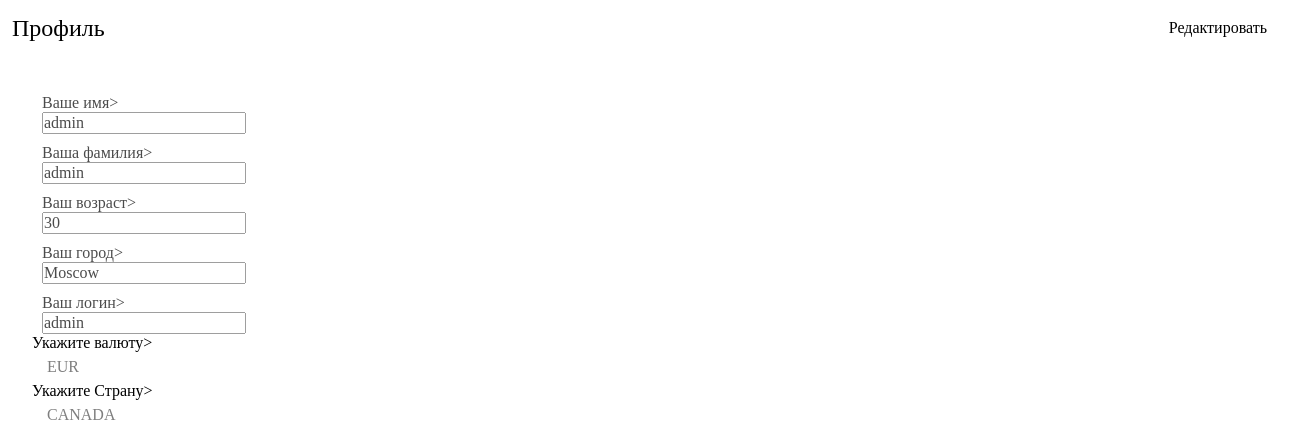
Scenario: features/EditableProfileCard › Отмена изменений
Click the button with test id "ProfilePageHeader.editBtn": {"x": 1218, "y": 28} [1154, 12, 1282, 44]
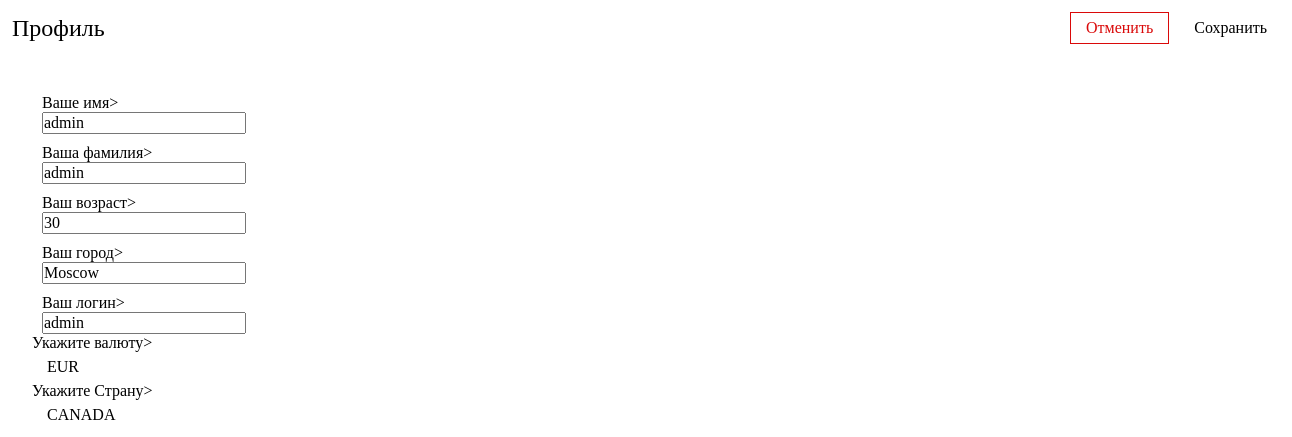
Replace the text in the field with test id "ProfileCard.Input.firstname" with "user": {"x": 144, "y": 123} [42, 112, 246, 134]
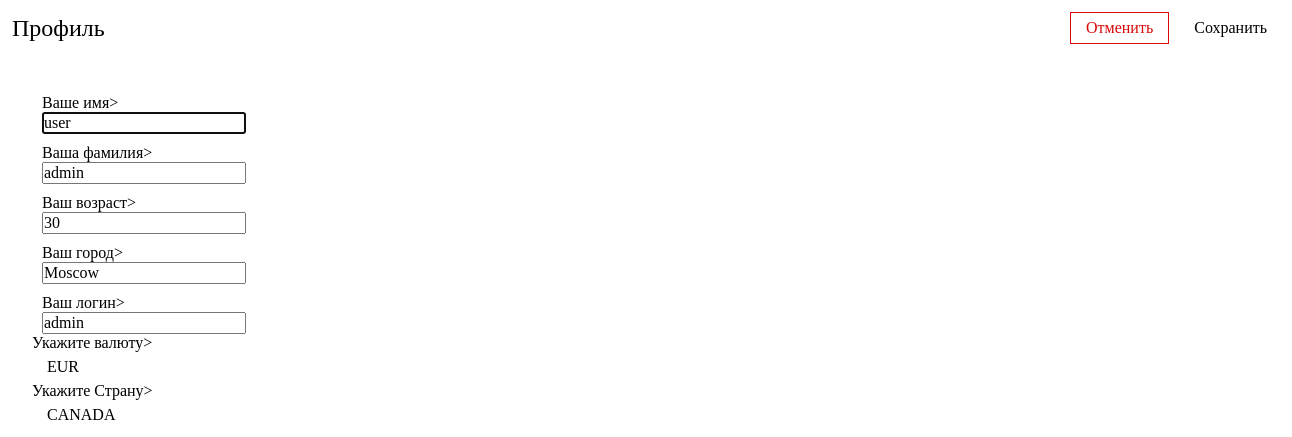
Click the button with test id "ProfilePageHeader.cancelBtn": {"x": 1120, "y": 28} [1070, 12, 1169, 44]
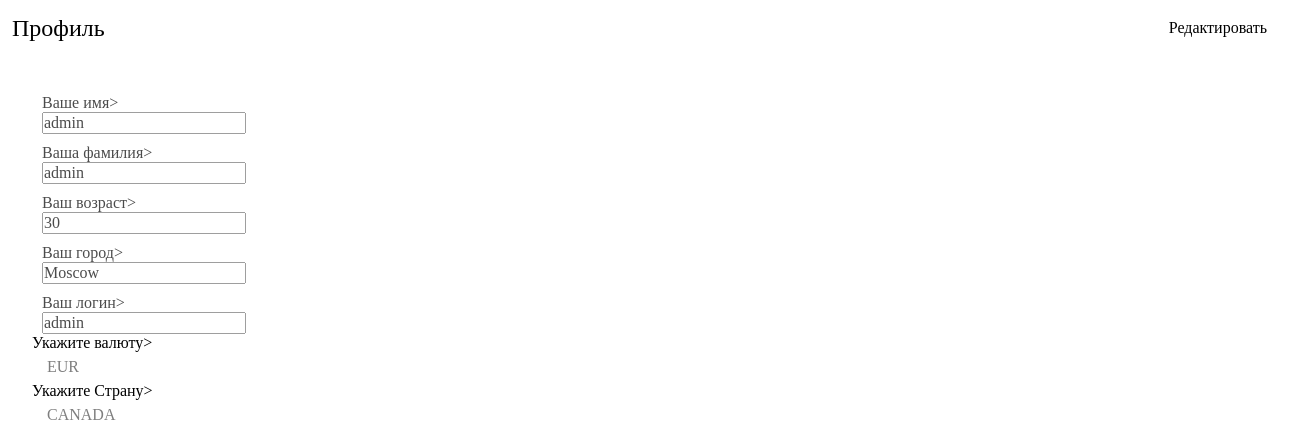
Now the field with test id "ProfileCard.Input.firstname" holds "admin", box [42, 112, 246, 134]
